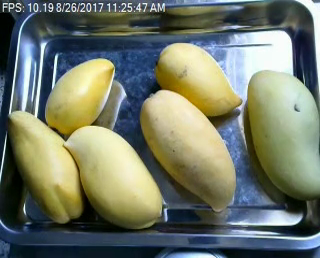Mango: (138, 88, 235, 210), (67, 125, 163, 229), (246, 69, 319, 202), (6, 109, 86, 224), (156, 41, 242, 119), (44, 57, 114, 132)
